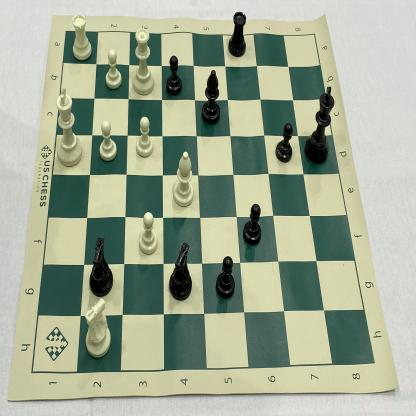black-bishop: (199, 65, 223, 127)
black-knight: (303, 80, 337, 165), (84, 233, 115, 298), (167, 240, 194, 304)
black-pawn: (212, 251, 237, 302), (240, 200, 264, 249), (273, 118, 295, 166)
black-rook: (224, 6, 249, 61)
white-bishop: (170, 149, 196, 211)
white-king: (55, 85, 85, 169)
white-knight: (81, 294, 114, 362)
white-pawn: (132, 112, 156, 162), (136, 208, 159, 258), (98, 116, 118, 165), (103, 46, 123, 93)
white-queen: (131, 25, 156, 98)
white-rook: (68, 10, 95, 66), (164, 49, 184, 98)
